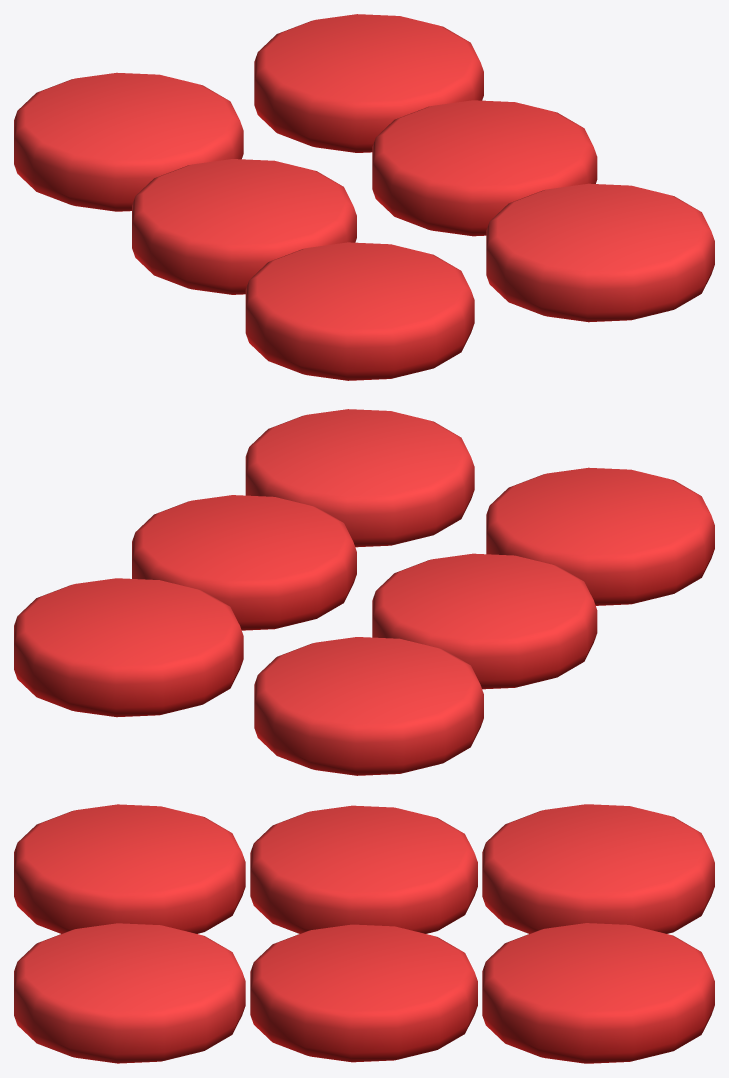
File: burgers.fbx
The picture shows the model from 3 angles, top to bottom: view 1: azimuth 30°, elevation 25°; view 2: azimuth 150°, elevation 25°; view 3: azimuth 270°, elevation 25°; orthographic projection.
Parts seen in each view (by area): view 1: burgers; view 2: burgers; view 3: burgers.
Part boxes in pixels (box(x1,y1,x2,y2)): burgers: box(14, 14, 714, 380); burgers: box(14, 409, 714, 775); burgers: box(14, 804, 714, 1063).
Bounding box in the file's own units: 116 × 12.92 × 158.
